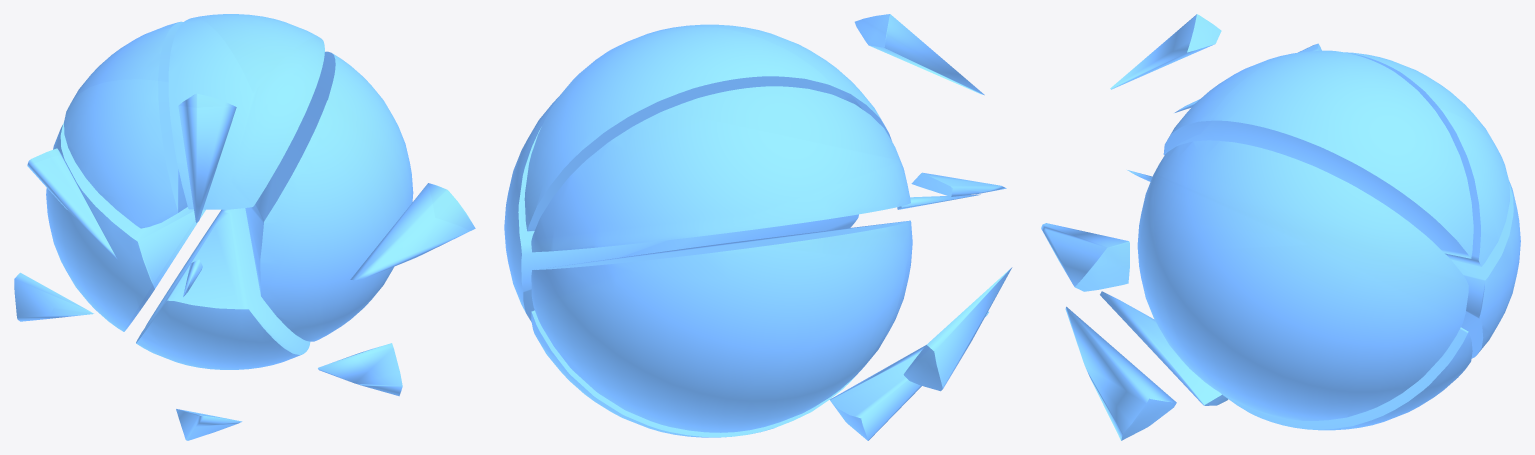
3 renders of one model, left to right at view 1: azimuth 30°, elevation 25°; view 2: azimuth 150°, elevation 25°; view 3: azimuth 270°, elevation 25°, orthographic. The views are drawn at different scales.
Visible parts, largest first — view 1: Sphere_cell.011, Sphere_cell, Sphere_cell.003, Sphere_cell.001, Sphere_cell.005, Sphere_cell.013, Sphere_cell.012, Sphere_cell.002, Sphere_cell.014, Sphere_cell.004, Sphere_cell.016; view 2: Sphere_cell.005, Sphere_cell.003, Sphere_cell, Sphere_cell.011, Sphere_cell.016, Sphere_cell.004, Sphere_cell.012, Sphere_cell.001, Sphere_cell.002; view 3: Sphere_cell.011, Sphere_cell, Sphere_cell.003, Sphere_cell.014, Sphere_cell.005, Sphere_cell.001, Sphere_cell.013, Sphere_cell.016, Sphere_cell.012.
Part boxes in pixels (bbox=[...]): Sphere_cell.011: bbox=[245, 51, 413, 341]; Sphere_cell: bbox=[168, 14, 324, 209]; Sphere_cell.003: bbox=[64, 21, 187, 228]; Sphere_cell.001: bbox=[136, 208, 310, 369]; Sphere_cell.005: bbox=[46, 123, 205, 331]; Sphere_cell.013: bbox=[350, 183, 475, 280]; Sphere_cell.012: bbox=[178, 93, 236, 222]; Sphere_cell.002: bbox=[27, 148, 117, 259]; Sphere_cell.014: bbox=[318, 343, 402, 396]; Sphere_cell.004: bbox=[14, 272, 93, 321]; Sphere_cell.016: bbox=[176, 409, 242, 440]; Sphere_cell.005: bbox=[531, 220, 912, 432]; Sphere_cell.003: bbox=[531, 86, 910, 252]; Sphere_cell: bbox=[524, 24, 891, 231]; Sphere_cell.011: bbox=[504, 94, 858, 321]; Sphere_cell.016: bbox=[830, 311, 988, 440]; Sphere_cell.004: bbox=[903, 267, 1012, 391]; Sphere_cell.012: bbox=[854, 14, 984, 95]; Sphere_cell.001: bbox=[531, 310, 854, 437]; Sphere_cell.002: bbox=[911, 172, 1006, 196]; Sphere_cell.011: bbox=[1137, 140, 1468, 420]; Sphere_cell: bbox=[1163, 50, 1473, 258]; Sphere_cell.003: bbox=[1345, 52, 1509, 266]; Sphere_cell.014: bbox=[1065, 306, 1176, 440]; Sphere_cell.005: bbox=[1451, 180, 1520, 358]; Sphere_cell.001: bbox=[1221, 327, 1472, 430]; Sphere_cell.013: bbox=[1041, 223, 1129, 291]; Sphere_cell.016: bbox=[1100, 291, 1228, 405]; Sphere_cell.012: bbox=[1110, 14, 1221, 89].
Size of the model in its own units: 244 by 231 by 261.
